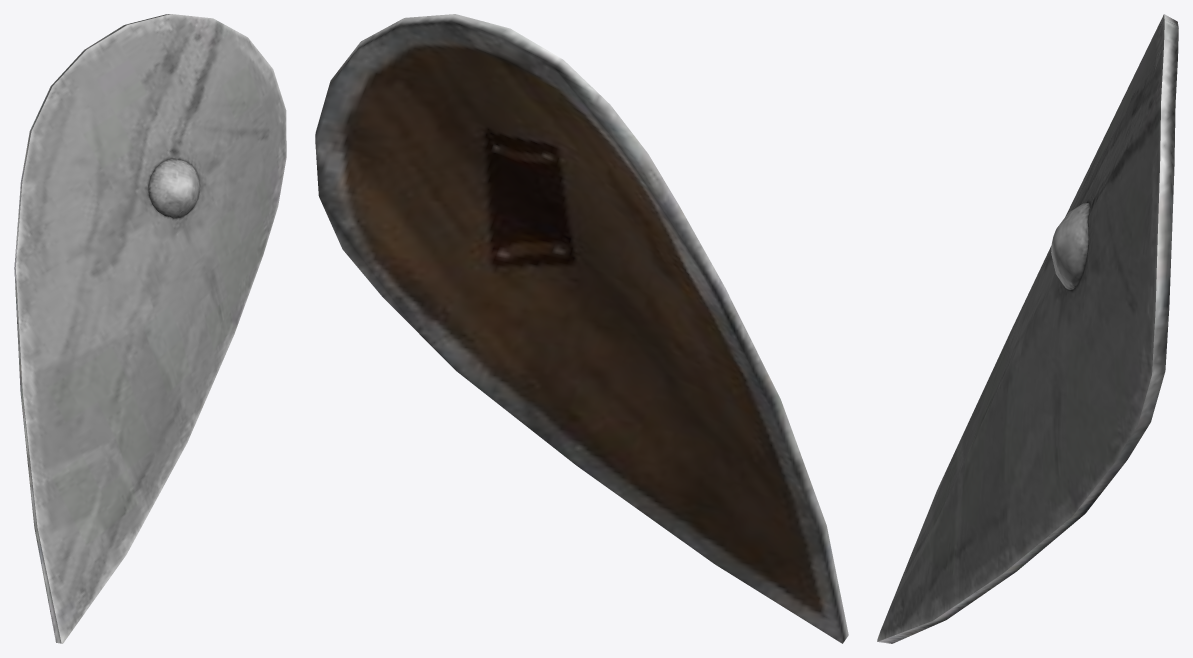
Rendered from shield-ironshields.glb.
3 views of the same model, side by side, from view 1: azimuth 30°, elevation 25°; view 2: azimuth 150°, elevation 25°; view 3: azimuth 270°, elevation 25° (orthographic). The views are drawn at different scales.
Size of the model in its own units: 0.7758 by 1.17 by 0.4306.
1 material, 1 textured.
